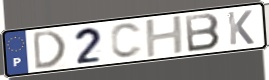2: (70, 25, 106, 68)
B: (183, 12, 222, 54)
C: (109, 22, 145, 60)
D: (31, 28, 67, 72)
H: (143, 14, 187, 60)
K: (226, 9, 256, 47)
